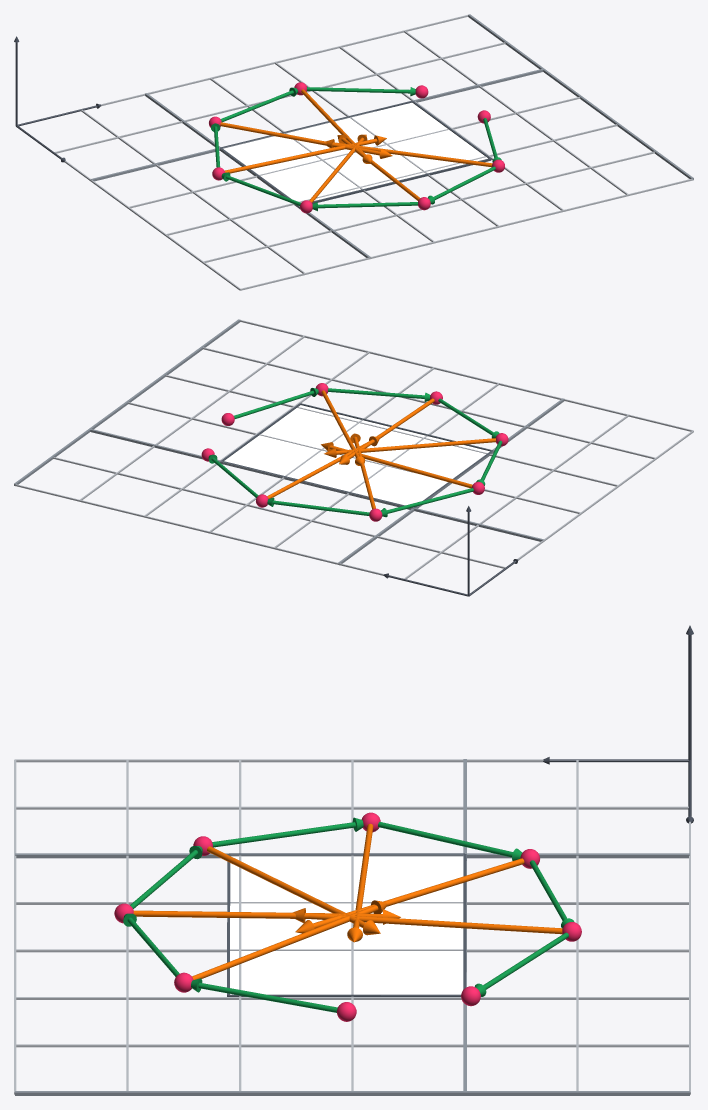
3 views of the same model, one above another, from view 1: azimuth 30°, elevation 25°; view 2: azimuth 150°, elevation 25°; view 3: azimuth 270°, elevation 25° (orthographic). The views are drawn at different scales.
Size of the model in its own units: 0.7052 by 0.1366 by 0.6046.
